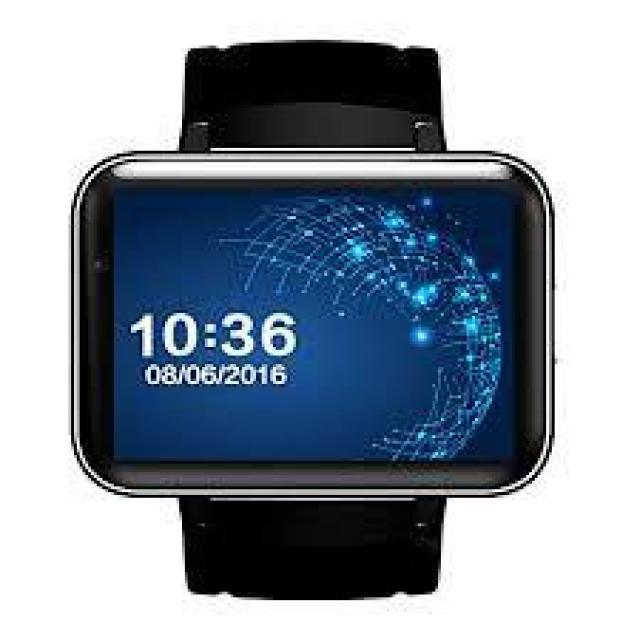watch: (87, 42, 582, 615)
